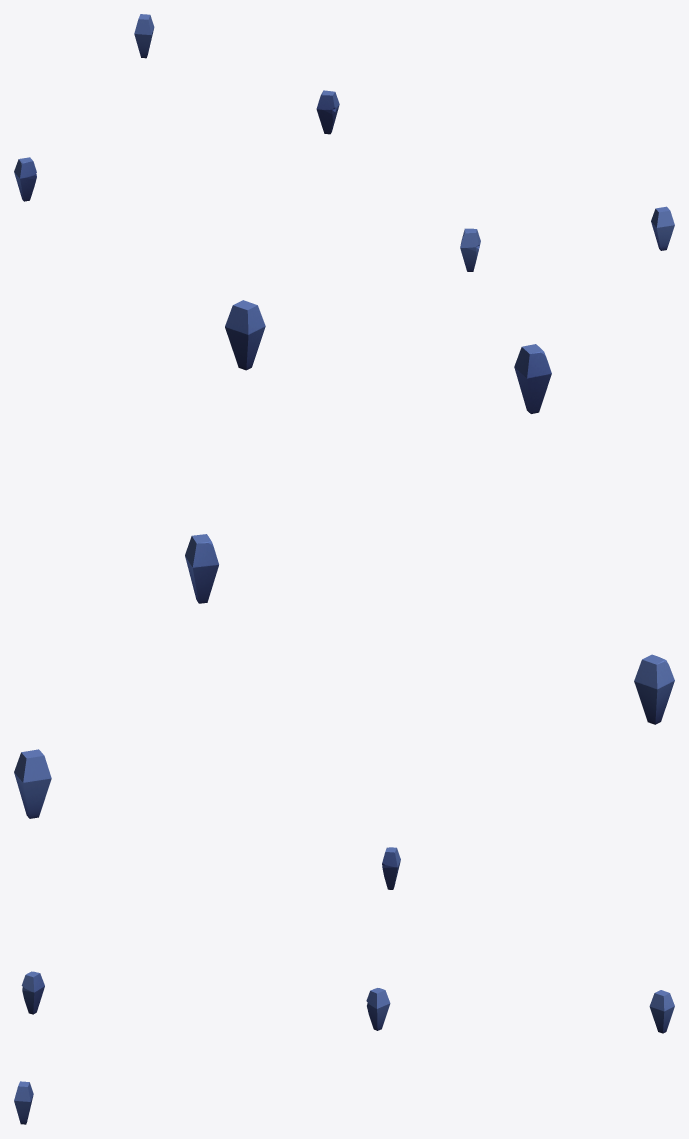
Rendered from Crystal_01.FBX.
3 renders of one model, top to bottom at view 1: azimuth 30°, elevation 25°; view 2: azimuth 150°, elevation 25°; view 3: azimuth 270°, elevation 25°, orthographic. The views are drawn at different scales.
Visible parts, largest first — view 1: Crystal_01; view 2: Crystal_01; view 3: Crystal_01.
Boxes of the visible parts, <box> form: Crystal_01: <box>14,14,674,271</box>; Crystal_01: <box>14,300,674,818</box>; Crystal_01: <box>14,847,674,1124</box>.
Bounding box in the file's own units: 30.13 × 3.76 × 37.76.
